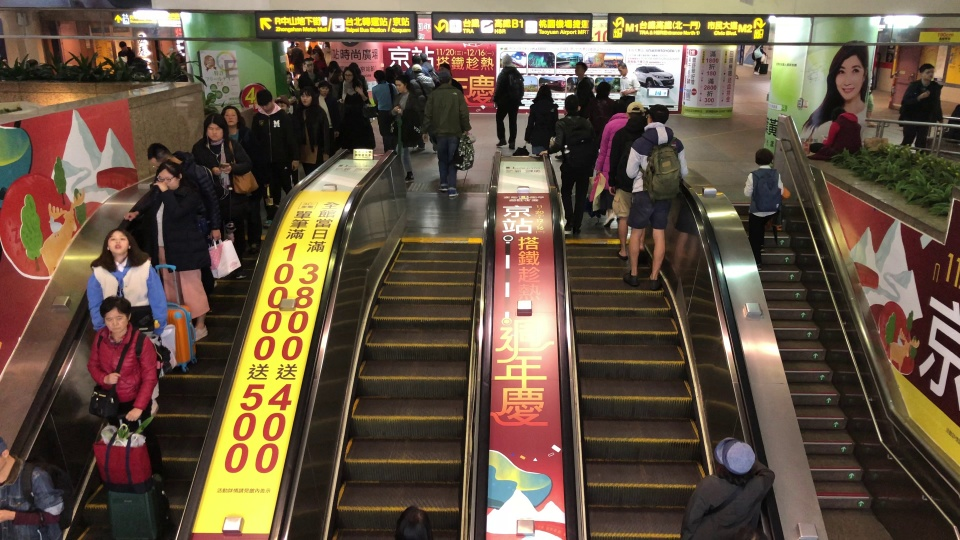person_head: (102, 229, 144, 270), (713, 436, 756, 476), (394, 505, 432, 540), (99, 296, 132, 333), (152, 161, 182, 192), (203, 113, 228, 145), (147, 142, 173, 167), (0, 433, 16, 469), (645, 104, 670, 125), (532, 84, 555, 104), (221, 106, 241, 127), (255, 90, 274, 112), (754, 148, 775, 167), (563, 94, 581, 114), (626, 101, 646, 119), (274, 94, 291, 114), (917, 63, 935, 81), (299, 86, 315, 106), (394, 75, 410, 93), (830, 106, 847, 122), (317, 80, 332, 97), (373, 69, 388, 85), (595, 82, 610, 97), (438, 68, 452, 84), (614, 100, 628, 113), (575, 62, 587, 77), (342, 67, 355, 80), (439, 61, 452, 74), (617, 61, 628, 76), (501, 54, 513, 67), (24, 58, 38, 69), (305, 57, 314, 73), (410, 64, 422, 75), (114, 57, 127, 67), (134, 56, 147, 66), (167, 46, 177, 56), (419, 53, 428, 64), (411, 55, 421, 64), (118, 41, 128, 49), (314, 52, 322, 61), (754, 40, 763, 48), (323, 40, 330, 48), (289, 39, 295, 46), (295, 41, 301, 48)
person_vbox: (85, 229, 168, 432), (122, 142, 218, 298), (88, 296, 162, 475), (620, 103, 689, 291), (147, 161, 211, 342), (191, 113, 256, 280), (680, 434, 775, 539), (542, 93, 597, 234), (0, 441, 74, 536), (606, 101, 648, 254), (220, 105, 262, 257), (249, 89, 294, 227), (742, 148, 792, 270), (428, 67, 471, 198), (594, 99, 629, 226), (897, 63, 944, 151), (390, 75, 427, 184), (492, 53, 525, 150), (805, 106, 862, 161), (296, 85, 330, 177), (523, 84, 559, 156), (371, 69, 400, 155), (410, 64, 436, 151), (274, 94, 293, 207), (342, 67, 368, 145), (314, 79, 339, 159), (589, 81, 617, 142), (573, 61, 595, 120), (615, 61, 641, 102), (433, 61, 464, 93), (405, 55, 433, 85), (157, 45, 180, 78), (419, 52, 440, 86), (751, 39, 766, 76), (297, 57, 319, 82), (292, 40, 304, 76), (132, 55, 150, 76), (313, 51, 327, 78), (286, 39, 296, 75), (117, 41, 134, 59), (320, 40, 332, 63)
